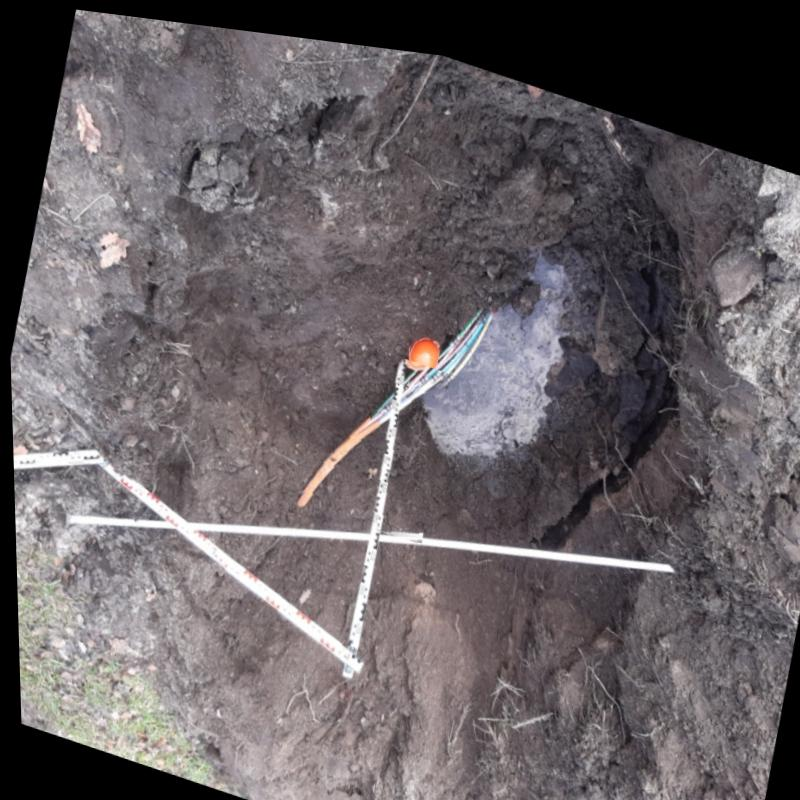Kugelmarker: (407, 326, 438, 364)
Orang-Speednetrohrchen: (295, 359, 446, 499)
